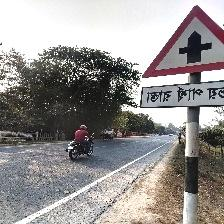Crossroad: (137, 4, 224, 111)
